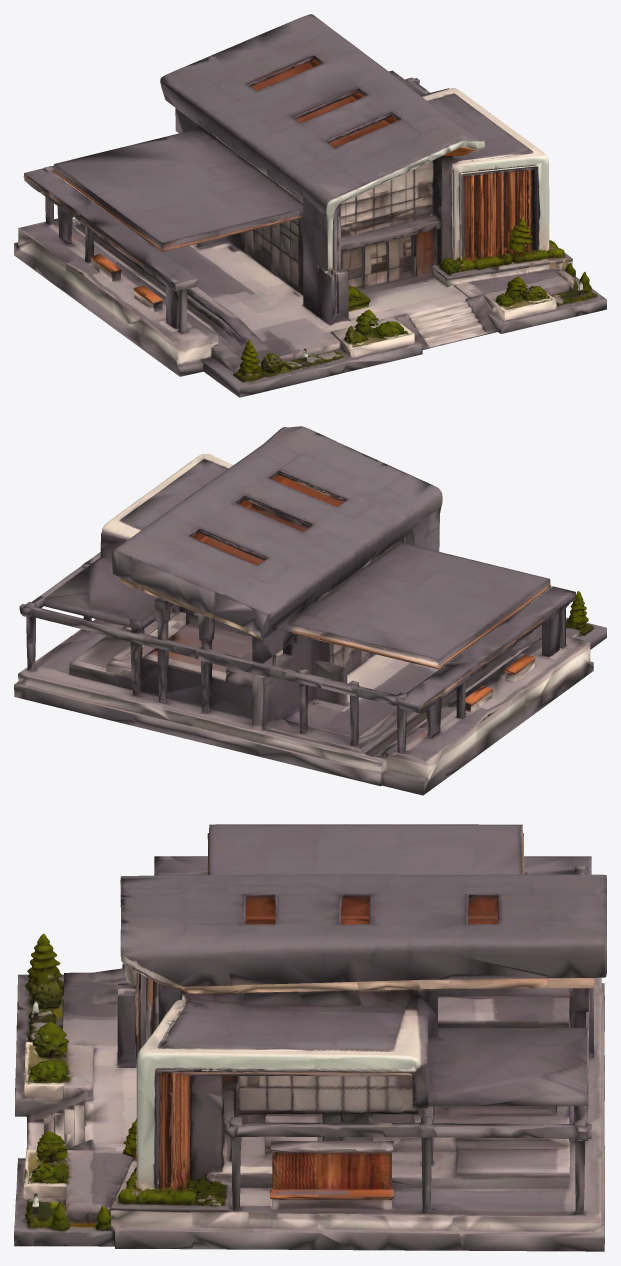
File: train-station.glb
3 views of the same model, one above another, from view 1: azimuth 30°, elevation 25°; view 2: azimuth 150°, elevation 25°; view 3: azimuth 270°, elevation 25° (orthographic). The views are drawn at different scales.
Size of the model in its own units: 1.9 by 0.769 by 1.7.
Materials: 1 (1 with a texture image).
